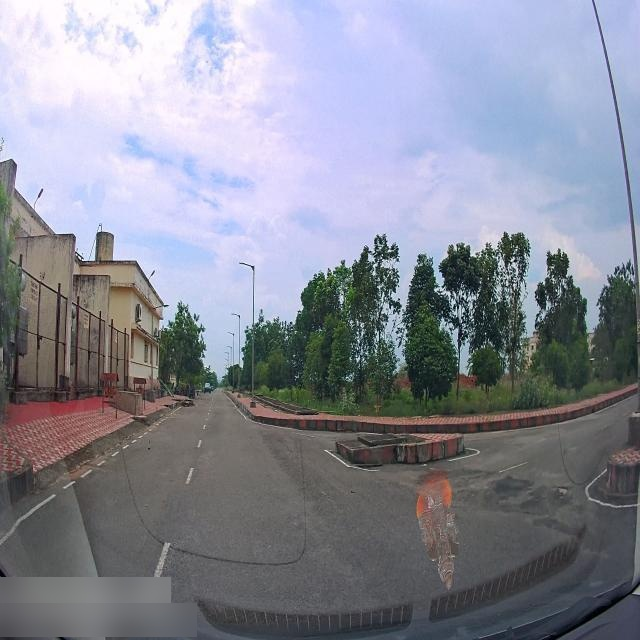pothole: (550, 484, 572, 501)
